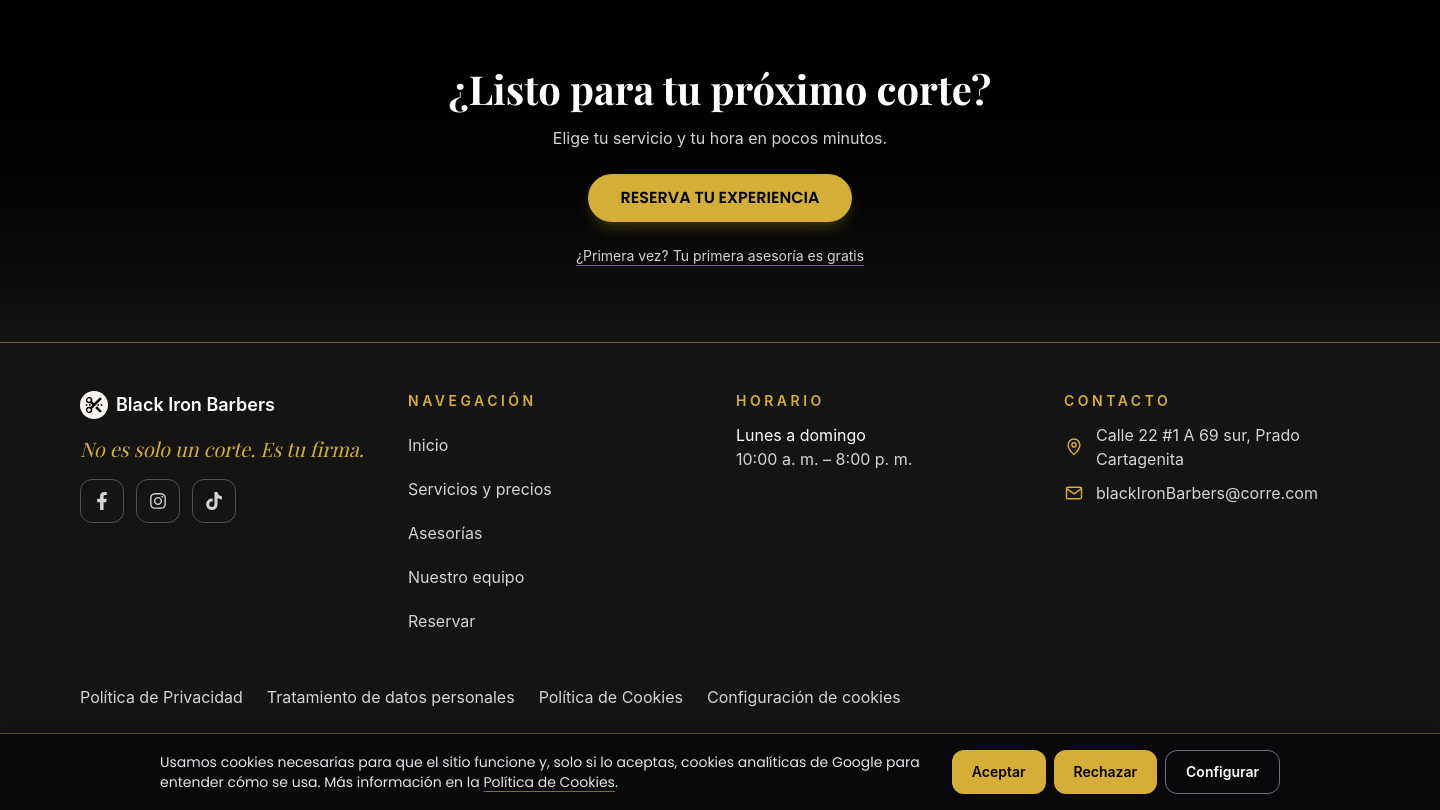
Test: Banner de cookies › Configurar abre el panel y el banner sigue hasta decidir
The width and height of the screenshot is (1440, 810).
Click the button "Configurar". click: (1222,772)
box: [1165,750,1280,794]
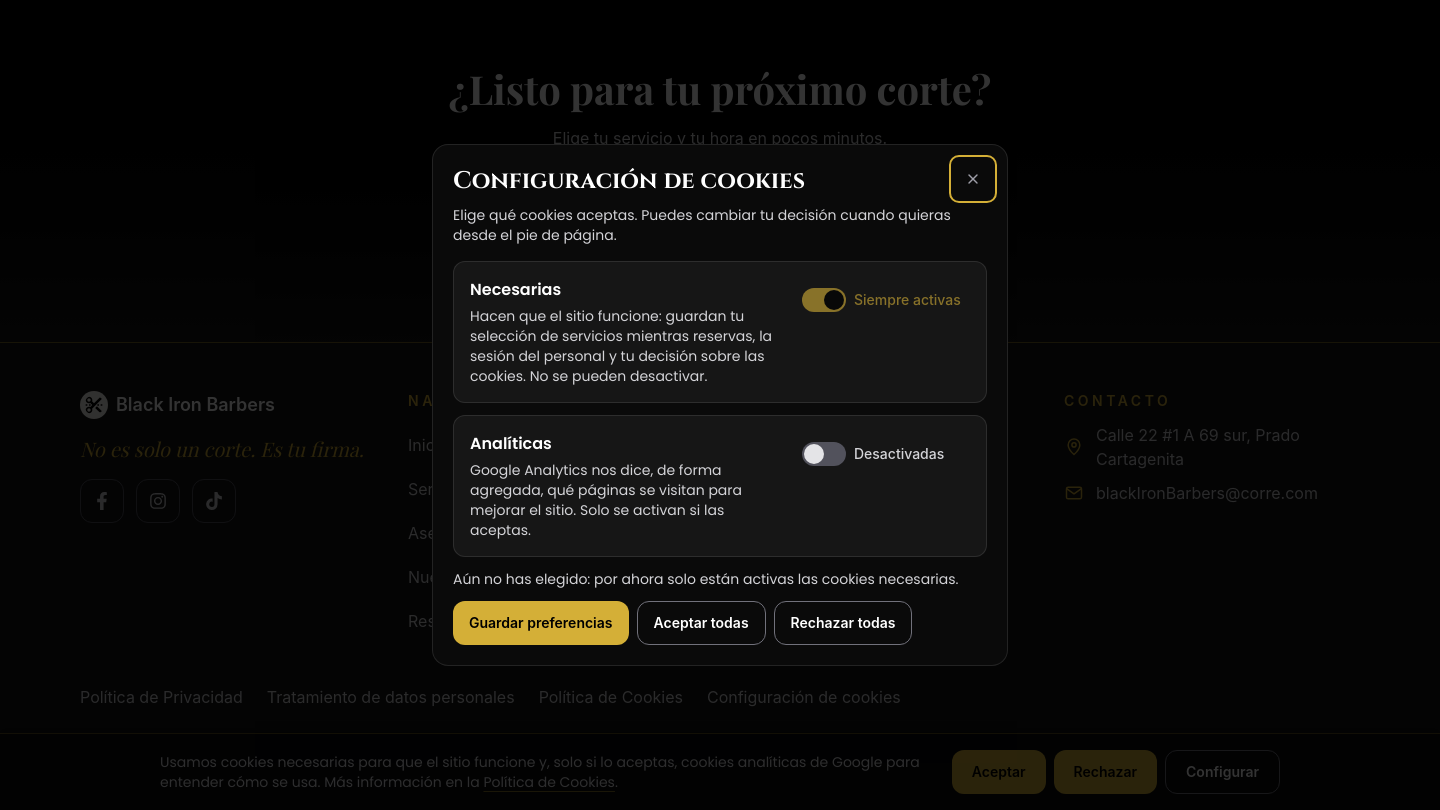
Expected: the element named "Aviso de cookies" is shown, [0,733,1439,809]
Expected: the dialog "Configuración de cookies" is shown, [432,144,1008,666]
